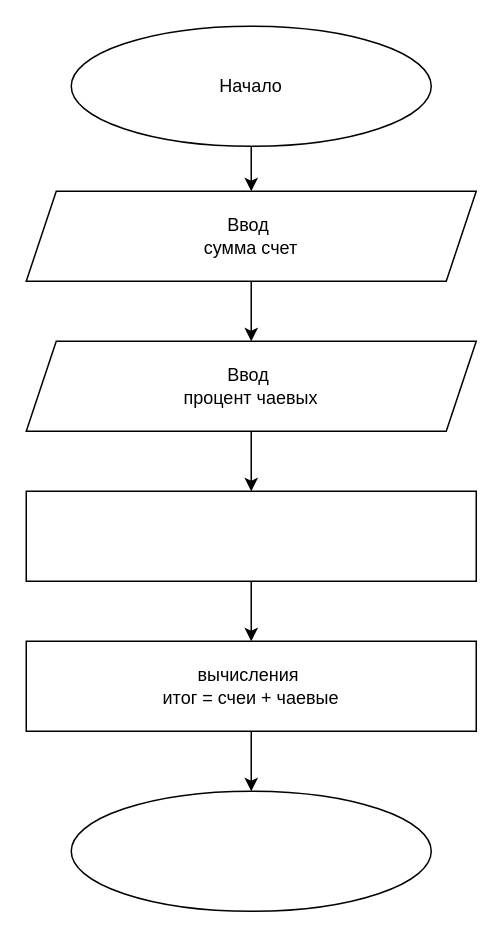
This 503x938 diagram has some shape labels left out. Each missing label, with the box of its shape:
Вычислеия чайевые = счет * процент / 100: (25, 490, 476, 581)
конец: (70, 790, 431, 911)
